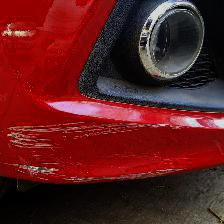bumper_scratch: (8, 123, 149, 181), (1, 16, 47, 52)
